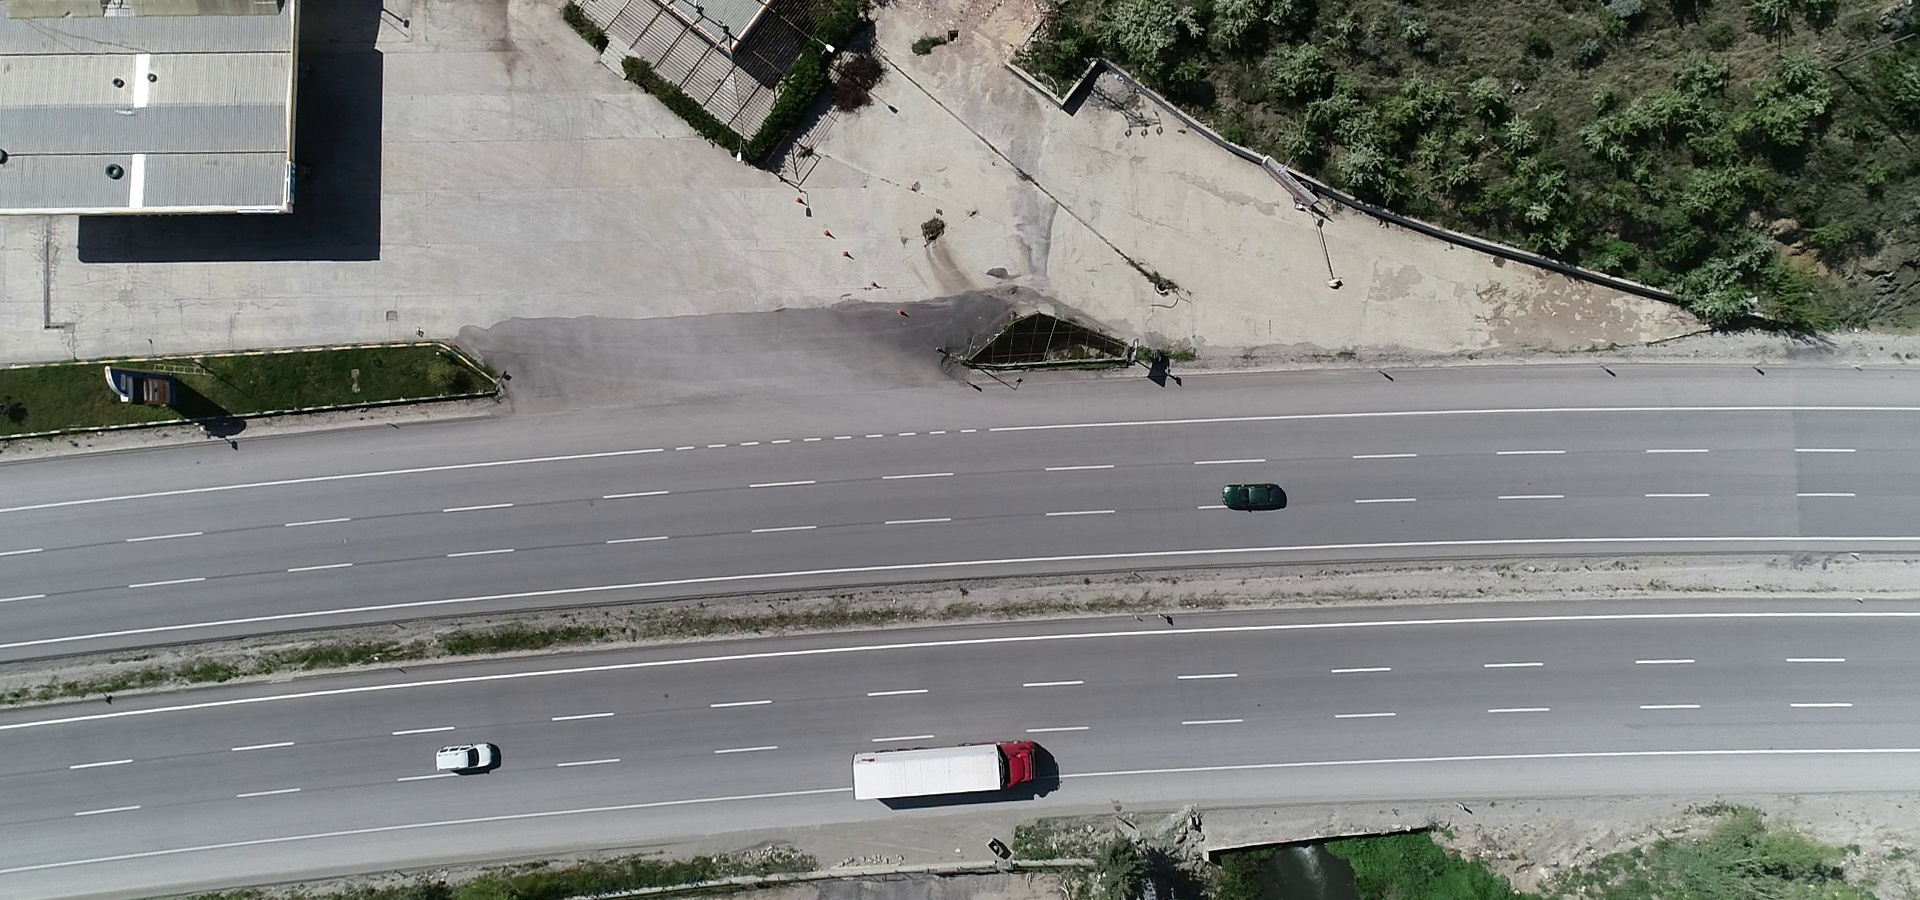araba: (429, 729, 504, 781), (1216, 479, 1291, 519)
kamyon: (844, 726, 1051, 813)
